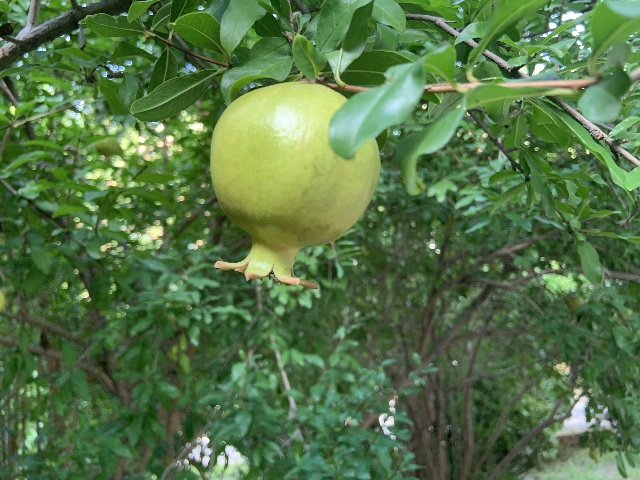mid-growth: (208, 80, 379, 288), (95, 137, 121, 162)
